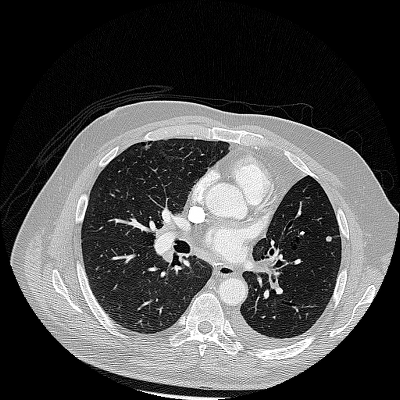nodule: (325, 235, 331, 241)
